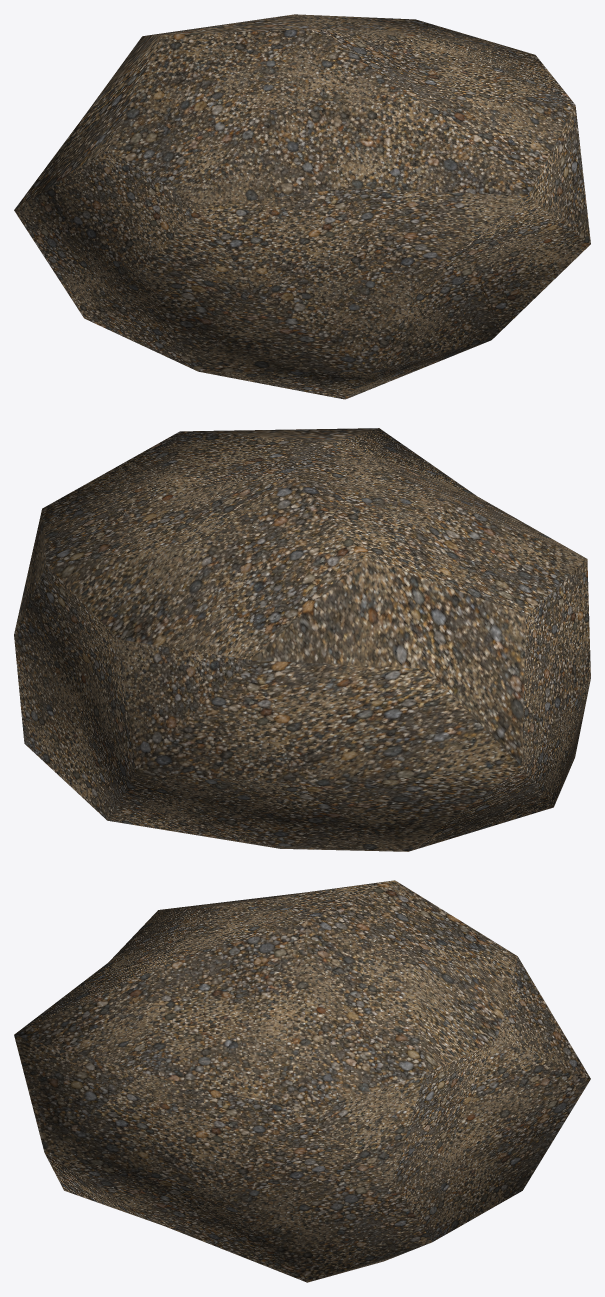
Rendered from level_hc_native_071_0.glb.
3 renders of one model, top to bottom at view 1: azimuth 30°, elevation 25°; view 2: azimuth 150°, elevation 25°; view 3: azimuth 270°, elevation 25°, orthographic. The views are drawn at different scales.
Parts seen in each view (by area): view 1: level_hc_native_071_0; view 2: level_hc_native_071_0; view 3: level_hc_native_071_0.
Part boxes in pixels (x1=…): level_hc_native_071_0: x1=14, y1=14, x2=590, y2=399; level_hc_native_071_0: x1=14, y1=428, x2=590, y2=851; level_hc_native_071_0: x1=14, y1=880, x2=590, y2=1282.
Bounding box in the file's own units: 0.6578 × 0.4061 × 0.6874.
1 material, 1 textured.
